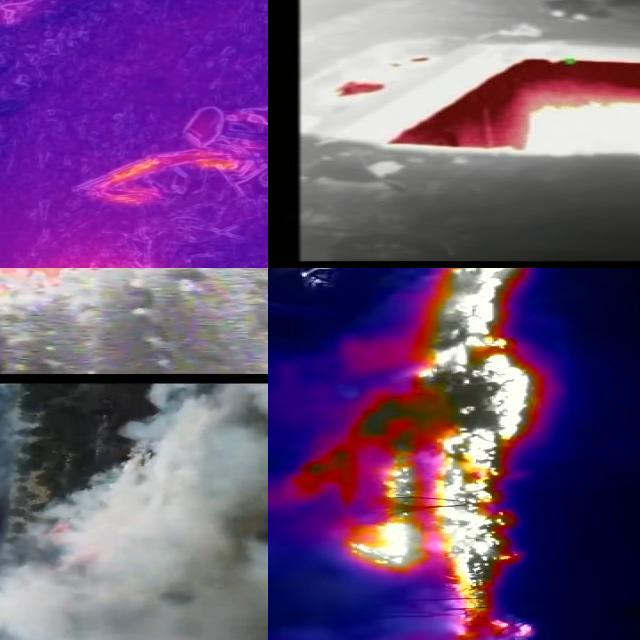fire: (345, 269, 550, 639), (381, 56, 640, 161), (1, 269, 157, 341)
